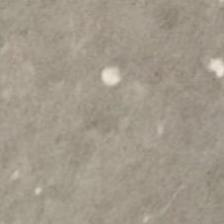Non_Crack: (8, 32, 208, 209)
